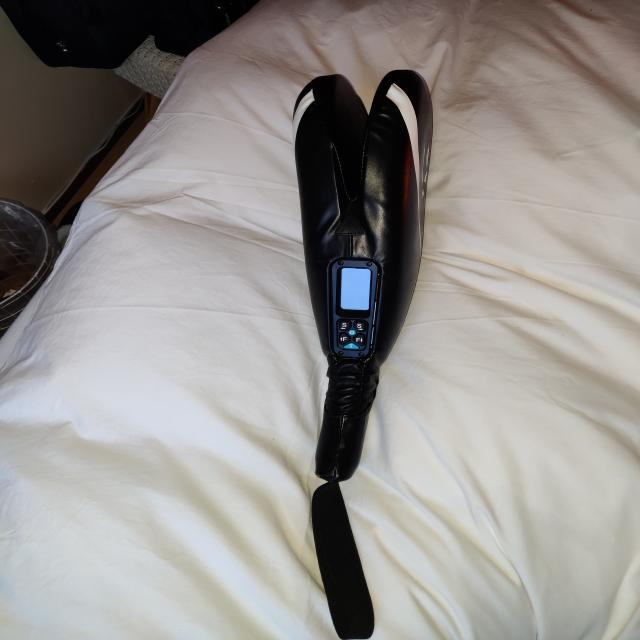paddle: (288, 67, 441, 482)
